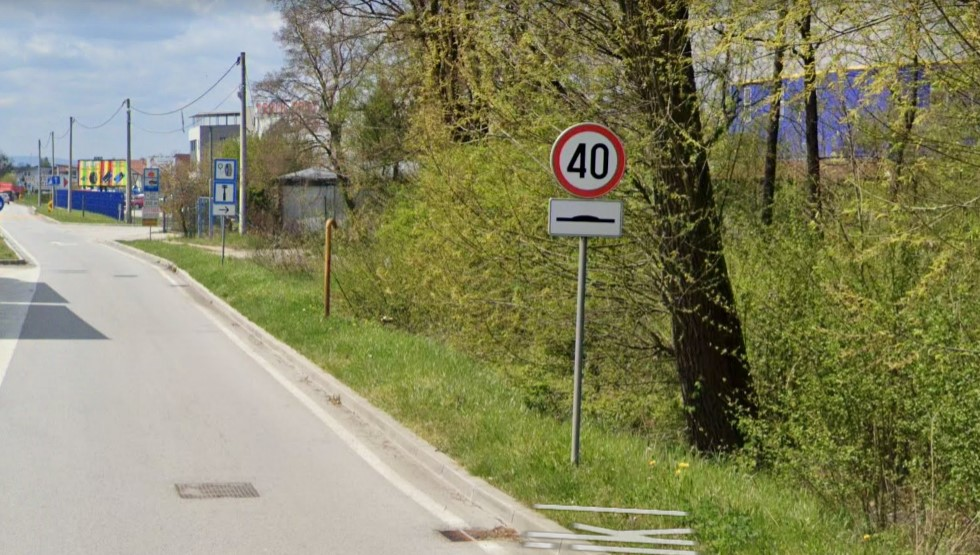Ograničenje brzine 40: (550, 122, 626, 198)
